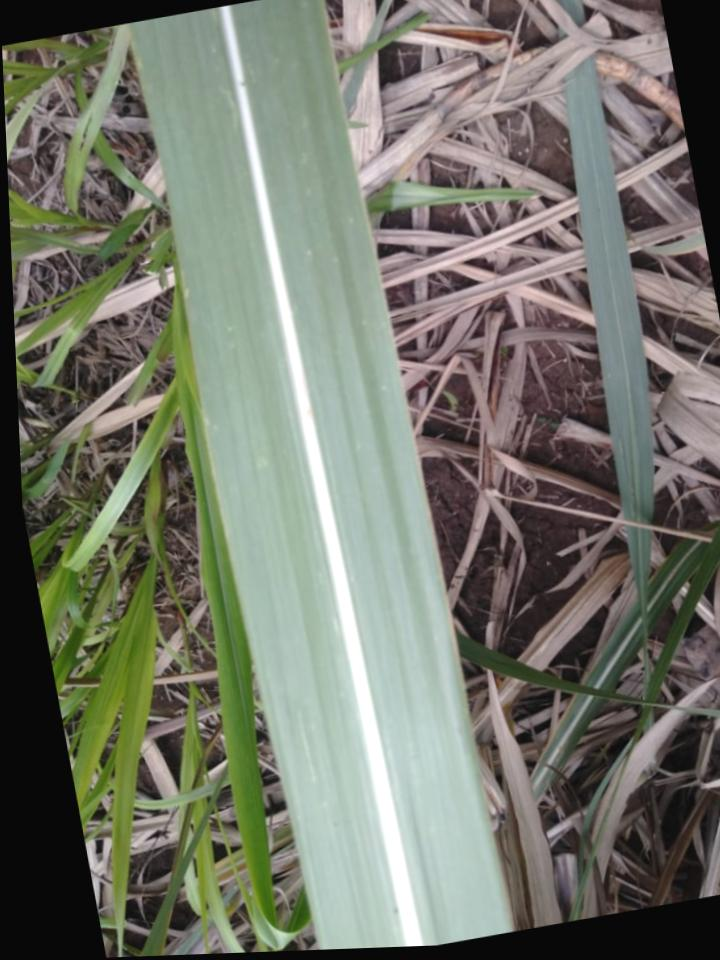Healthy: (130, 0, 513, 950)
